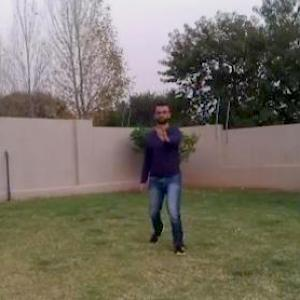takeoff-hand: (156, 124, 179, 148)
